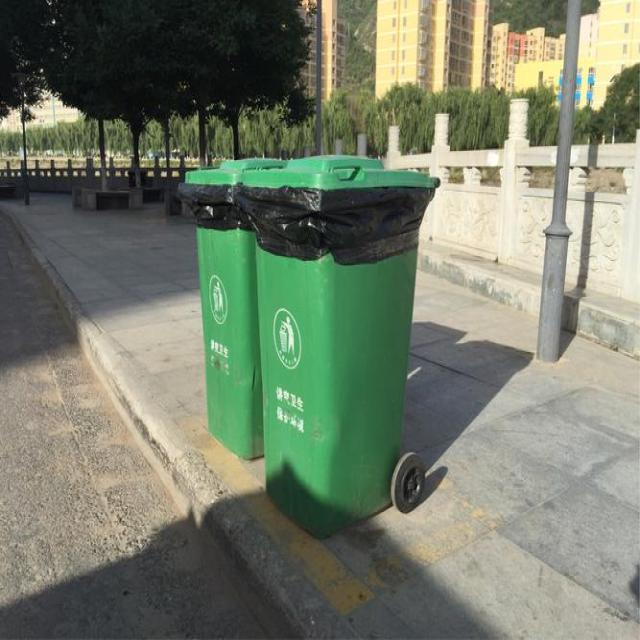garbage_bin: (240, 154, 440, 536), (177, 156, 284, 458)
